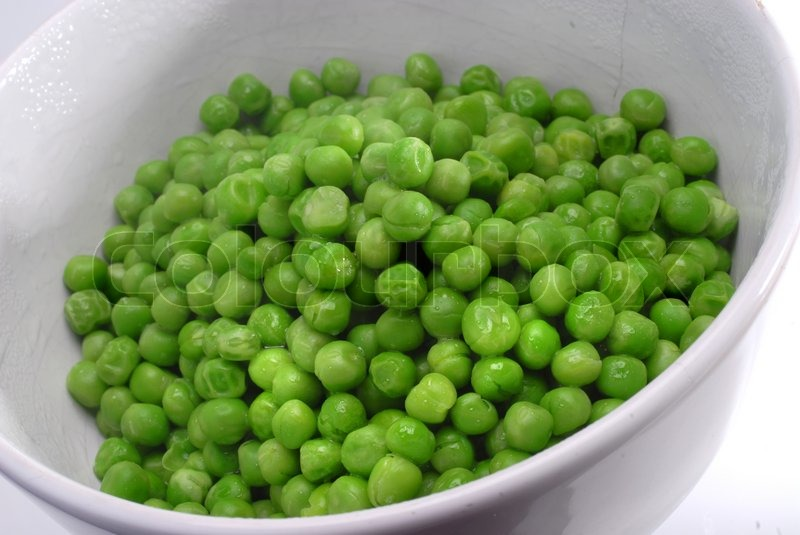boiled peas: (83, 60, 729, 515)
